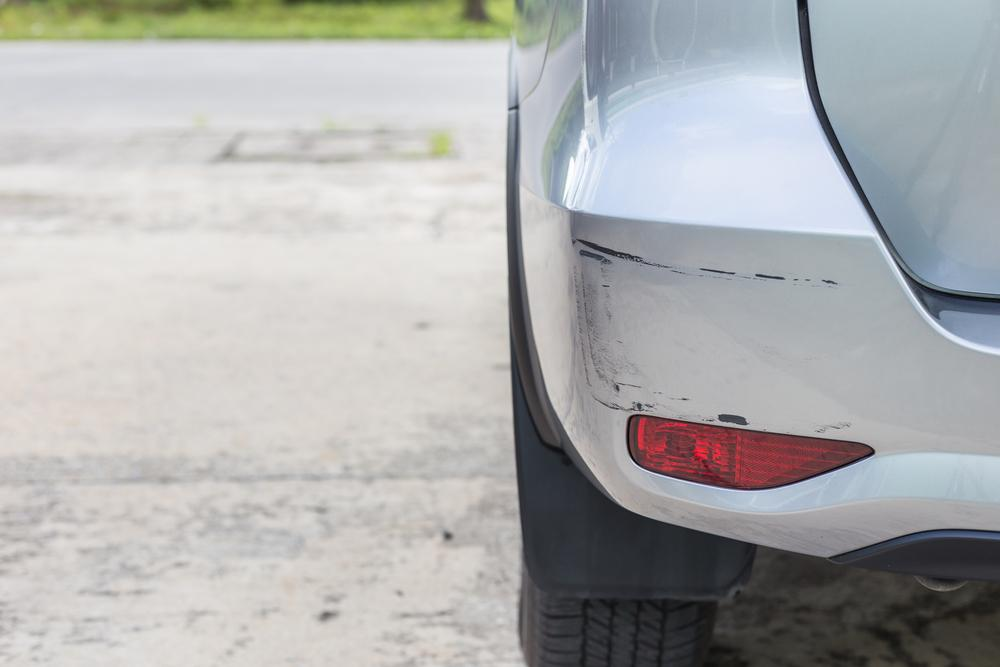scratch: (563, 235, 858, 438)
